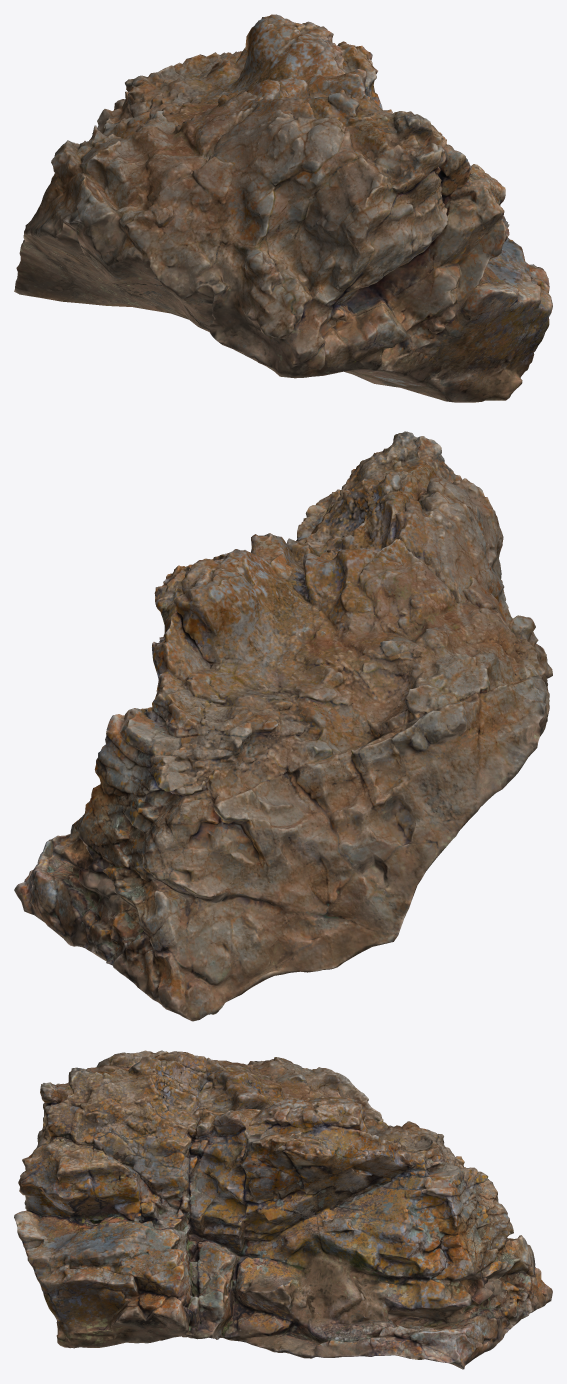
File: boulder_01.glb
The picture shows the model from 3 angles, top to bottom: view 1: azimuth 30°, elevation 25°; view 2: azimuth 150°, elevation 25°; view 3: azimuth 270°, elevation 25°; orthographic projection. The views are drawn at different scales.
Parts seen in each view (by area): view 1: boulder_01; view 2: boulder_01; view 3: boulder_01.
Boxes of the visible parts, bbox=[...] form: boulder_01: bbox=[14, 14, 552, 402]; boulder_01: bbox=[14, 431, 552, 1021]; boulder_01: bbox=[14, 1050, 552, 1369].
Bounding box in the file's own units: 1.27 × 1 × 1.83.
1 material, 1 textured.
